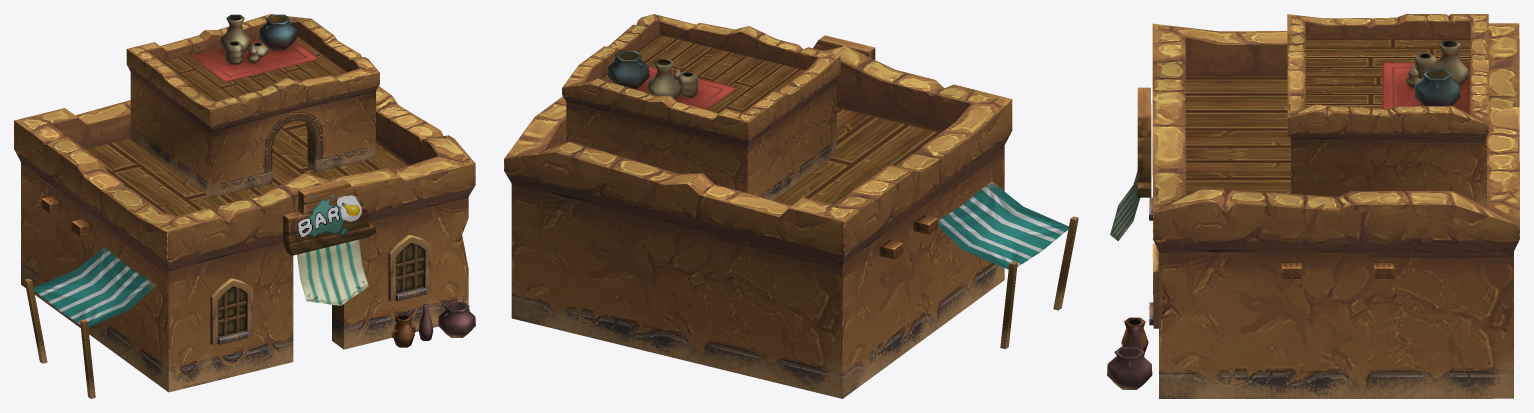
File: fangzi02.FBX
The picture shows the model from 3 angles, left to right: view 1: azimuth 30°, elevation 25°; view 2: azimuth 150°, elevation 25°; view 3: azimuth 270°, elevation 25°; orthographic projection. The views are drawn at different scales.
Parts seen in each view (by area): view 1: fangzi02; view 2: fangzi02; view 3: fangzi02.
Part boxes in pixels (<box>): fangzi02: <box>14,14,475,398</box>; fangzi02: <box>504,14,1078,398</box>; fangzi02: <box>1107,14,1519,398</box>.
Bounding box in the file's own units: 471 × 279 × 361.
